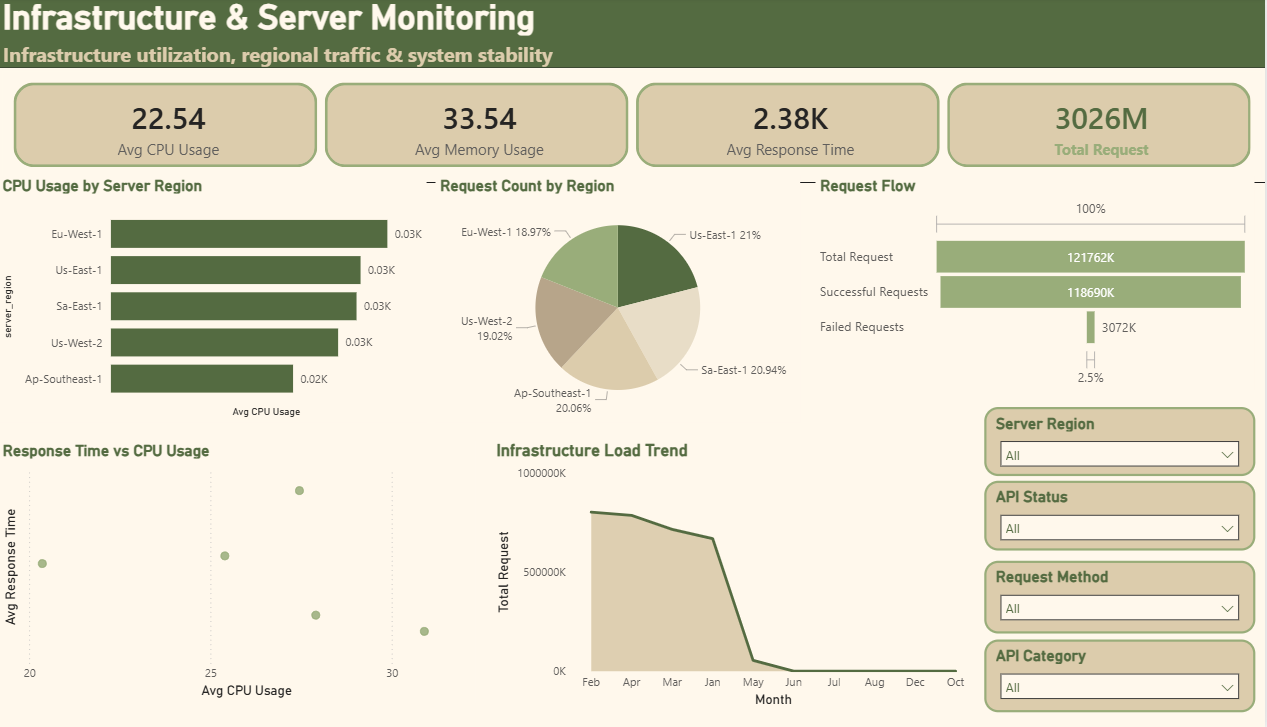

The page's visual inventory and layout, read from the dashboard file:
{"tool":"powerbi","page":{"name":"Infrastructure & Server Monitoring","canvas":[1366,790],"ordinal":3},"visuals":[{"type":"cardVisual","fields":{"Data":["Measure.Avg CPU Usage","Measure.Avg Memory Usage","Measure.Avg Response Time","Measure.Total Request"]},"box":[0,75.4,1366.5,125.2],"z":0},{"type":"textbox","title":"Infrastructure & Server Monitoring","box":[0,0,1366.7,76],"z":1000},{"type":"lineChart","title":"Infrastructure Load Trend","fields":{"Category":["DateTable.Month"],"Y":["Measure.Total Request"]},"box":[531.8,477.9,522.4,292.1],"z":2000},{"type":"scatterChart","title":"Response Time vs CPU Usage","fields":{"X":["Measure.Avg CPU Usage"],"Y":["Measure.Avg Response Time"],"Category":["api_logs.server_region"]},"box":[0,477.9,514.3,282.7],"z":3000},{"type":"pieChart","title":"Request Count by Region","fields":{"Category":["api_logs.server_region"],"Y":["Sum(api_logs.request_count)"]},"box":[471.2,192.5,393.1,265.2],"z":4000},{"type":"slicer","title":"Server Region","fields":{"Values":["api_logs.server_region"]},"box":[1062.2,441.6,292.1,74],"z":5000},{"type":"slicer","title":"Request Method","fields":{"Values":["api_logs.request_method"]},"box":[1062.2,607.2,292.1,78.1],"z":6000},{"type":"slicer","title":"API Status","fields":{"Values":["apis.status"]},"box":[1062.2,521,292.1,75.4],"z":7000},{"type":"clusteredBarChart","title":"CPU Usage by Server Region","fields":{"Y":["Measure.Avg CPU Usage"],"Category":["api_logs.server_region"]},"box":[0,192.5,461.8,265.2],"z":8000},{"type":"funnel","title":"Request Flow","fields":{"Y":["Measure.Total Request","Measure.Successful Requests","Measure.Failed Requests"]},"box":[880.5,192.5,472.5,231.6],"z":9000},{"type":"slicer","title":"API Category","fields":{"Values":["apis.api_category"]},"box":[1062.2,692,292.1,78.1],"z":10000}]}

Visuals, with their boxes in screenshot pixels (x1, y1, x2, y2), scaled from the page's 1366x790 canvas onto the 1267x727 screenshot:
cardVisual - Measure.Avg CPU Usage x Measure.Avg Memory Usage: {"left": 0, "top": 69, "right": 1266, "bottom": 185}
"Infrastructure & Server Monitoring" textbox: {"left": 0, "top": 0, "right": 1266, "bottom": 70}
"Infrastructure Load Trend" lineChart: {"left": 493, "top": 440, "right": 978, "bottom": 709}
"Response Time vs CPU Usage" scatterChart: {"left": 0, "top": 440, "right": 477, "bottom": 700}
"Request Count by Region" pieChart: {"left": 437, "top": 177, "right": 802, "bottom": 421}
"Server Region" slicer: {"left": 985, "top": 406, "right": 1256, "bottom": 474}
"Request Method" slicer: {"left": 985, "top": 559, "right": 1256, "bottom": 631}
"API Status" slicer: {"left": 985, "top": 479, "right": 1256, "bottom": 549}
"CPU Usage by Server Region" clusteredBarChart: {"left": 0, "top": 177, "right": 428, "bottom": 421}
"Request Flow" funnel: {"left": 817, "top": 177, "right": 1255, "bottom": 390}
"API Category" slicer: {"left": 985, "top": 637, "right": 1256, "bottom": 709}
